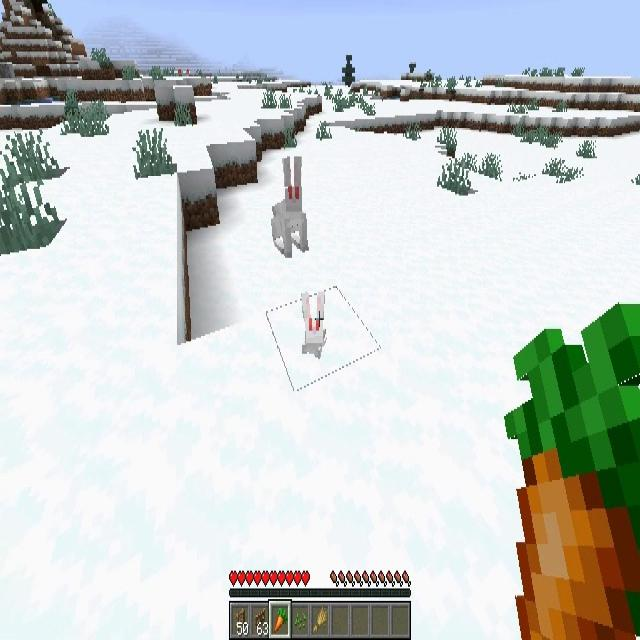rabbit: (270, 155, 309, 256), (301, 291, 326, 359)
